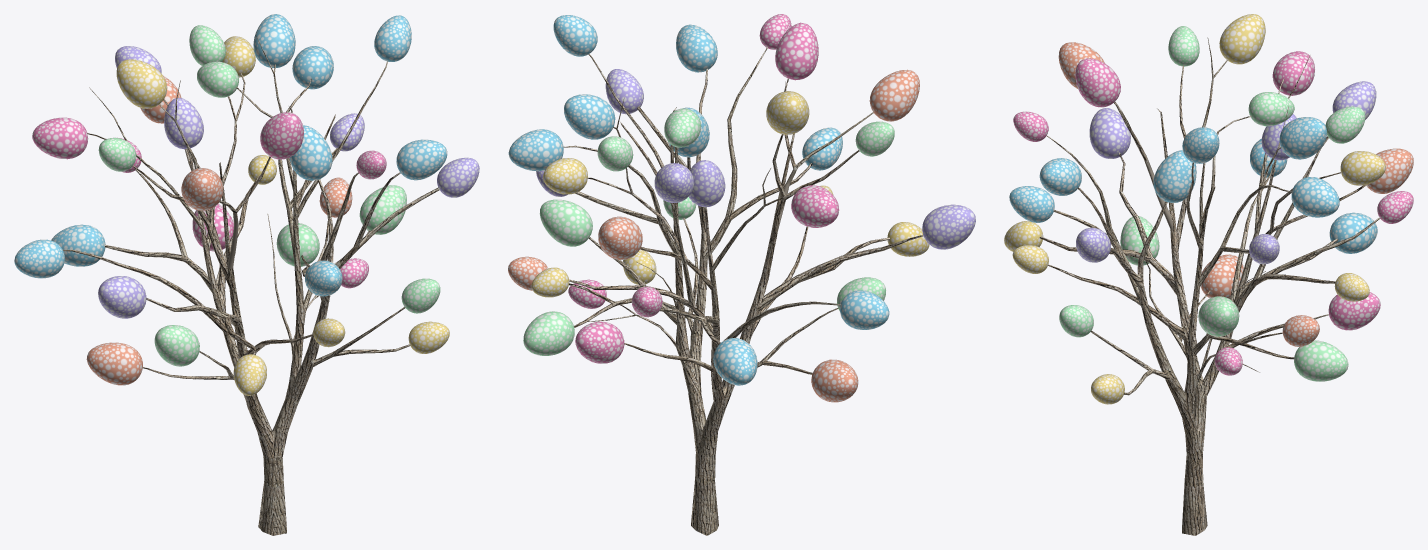
The model's file is drvo.obj.
The picture shows the model from 3 angles, left to right: view 1: azimuth 30°, elevation 25°; view 2: azimuth 150°, elevation 25°; view 3: azimuth 270°, elevation 25°; orthographic projection. The views are drawn at different scales.
Parts seen in each view (by area): view 1: tree_Tree_0, Egg01.006_Mat02_0, Egg01.004_Mat02_0, Egg01.019_Mat05_0, Egg01.008_Mat03_0, Egg01.001_Mat01_0, Egg01.009_Mat03_0, Egg01.024_Mat06_0, Egg01.003_Mat01_0, Egg01.035_Mat01_0, Egg01.011_Mat03_0, Egg01.012_Mat04_0 (+24 smaller); view 2: tree_Tree_0, Egg01.001_Mat01_0, Egg01_Mat01_0, Egg01.033_Mat05_0, Egg01.009_Mat03_0, Egg01.008_Mat03_0, Egg01.002_Mat01_0, Egg01.023_Mat05_0, Egg01.003_Mat01_0, Egg01.020_Mat05_0, Egg01.019_Mat05_0, Egg01.004_Mat02_0 (+22 smaller); view 3: tree_Tree_0, Egg01.006_Mat02_0, Egg01.002_Mat01_0, Egg01.001_Mat01_0, Egg01.035_Mat01_0, Egg01.009_Mat03_0, Egg01.008_Mat03_0, Egg01.023_Mat05_0, Egg01.019_Mat05_0, Egg01.003_Mat01_0, Egg01.020_Mat05_0, Egg01.033_Mat05_0 (+25 smaller).
Part boxes in pixels (x1,y1,x2,y2): tree_Tree_0: (63,34,439,535); Egg01.006_Mat02_0: (116,59,167,108); Egg01.004_Mat02_0: (86,342,142,385); Egg01.019_Mat05_0: (32,117,88,159); Egg01.008_Mat03_0: (253,14,295,67); Egg01.001_Mat01_0: (260,112,303,159); Egg01.009_Mat03_0: (98,276,146,318); Egg01.024_Mat06_0: (396,139,447,180); Egg01.003_Mat01_0: (51,224,105,266); Egg01.035_Mat01_0: (289,125,332,180); Egg01.011_Mat03_0: (14,239,64,278); Egg01.012_Mat04_0: (164,97,203,149); tree_Tree_0: (563,46,923,535); Egg01.001_Mat01_0: (775,22,818,80); Egg01_Mat01_0: (869,69,919,121); Egg01.033_Mat05_0: (539,199,592,246); Egg01.009_Mat03_0: (922,204,975,249); Egg01.008_Mat03_0: (564,94,615,139); Egg01.002_Mat01_0: (523,311,574,355); Egg01.023_Mat05_0: (508,129,563,171); Egg01.003_Mat01_0: (713,338,757,385); Egg01.020_Mat05_0: (575,321,624,363); Egg01.019_Mat05_0: (791,185,839,227); Egg01.004_Mat02_0: (811,359,858,402); tree_Tree_0: (1039,37,1380,535); Egg01.006_Mat02_0: (1219,14,1265,64); Egg01.002_Mat01_0: (1294,340,1348,381); Egg01.001_Mat01_0: (1075,58,1120,107); Egg01.035_Mat01_0: (1153,150,1196,202); Egg01.009_Mat03_0: (1089,108,1130,158); Egg01.008_Mat03_0: (1279,117,1327,159); Egg01.023_Mat05_0: (1291,177,1339,217); Egg01.019_Mat05_0: (1272,51,1314,95); Egg01.003_Mat01_0: (1329,212,1377,253); Egg01.020_Mat05_0: (1328,292,1380,330); Egg01.033_Mat05_0: (1198,296,1239,336).
Bounding box in the file's own units: 2.94 × 3.63 × 2.92.
Materials: 37 (37 with a texture image).
